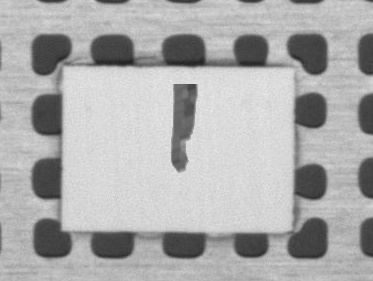DIE_INK: (167, 84, 193, 171)
